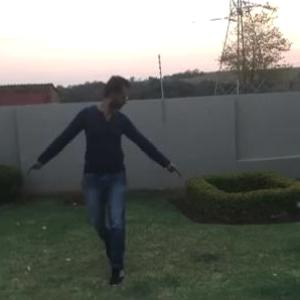land: (17, 68, 184, 286)
